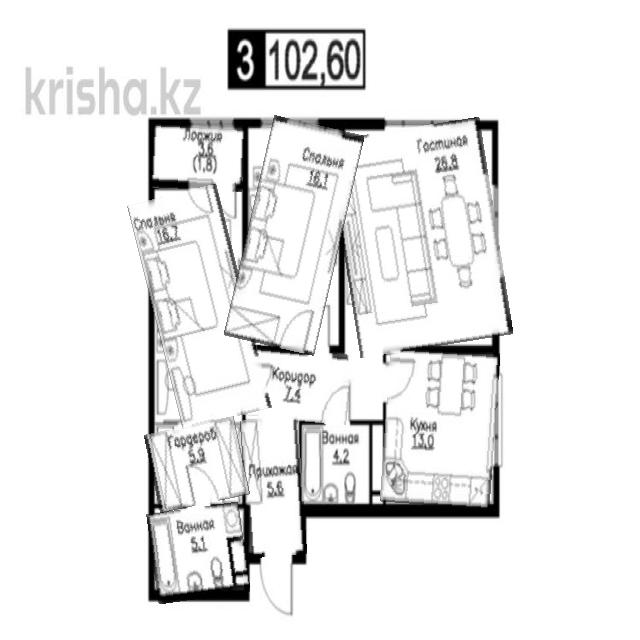balcony: (151, 122, 245, 191)
bathroom: (149, 504, 248, 601), (301, 421, 385, 508)
hallway: (243, 418, 305, 558), (242, 346, 352, 423)
kitchen: (383, 348, 498, 508)
living_room: (334, 123, 505, 353), (141, 187, 259, 426), (235, 119, 352, 353)
other: (148, 421, 246, 509)
